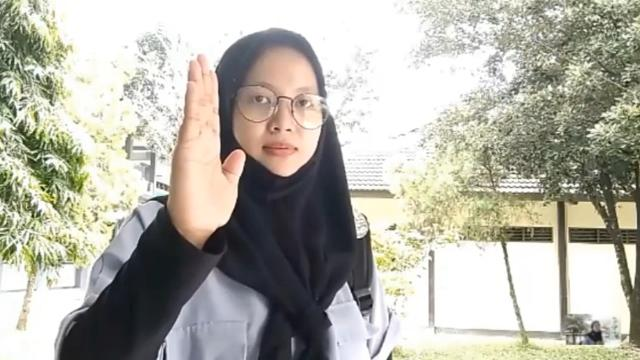B: (169, 52, 245, 240)
